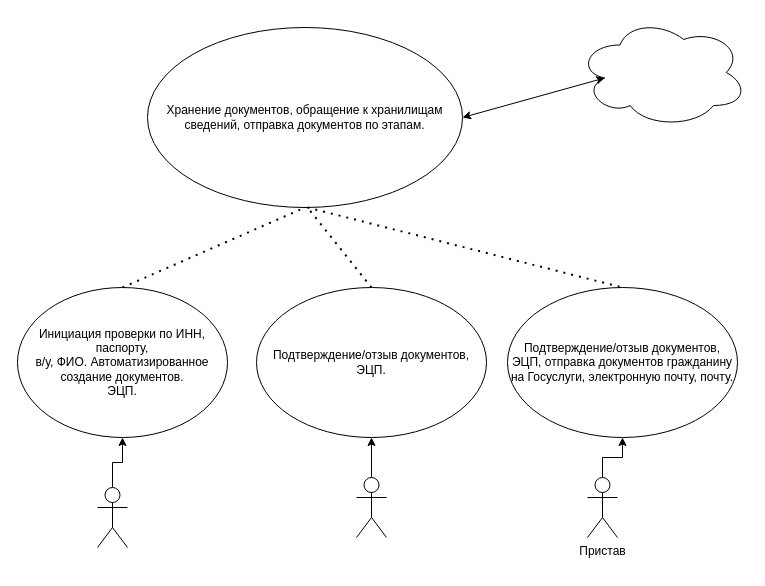
Image size: 765x586. Some labels were removed from this diagram. Here are the shapes that lost their labels. From the top down, the centre of each, then its label:
At pixel 662 72: "Внешние хранилища сведений. Например, Госуслуги".
At pixel 112 517: "Инспектор".
At pixel 371 507: "Судья".
